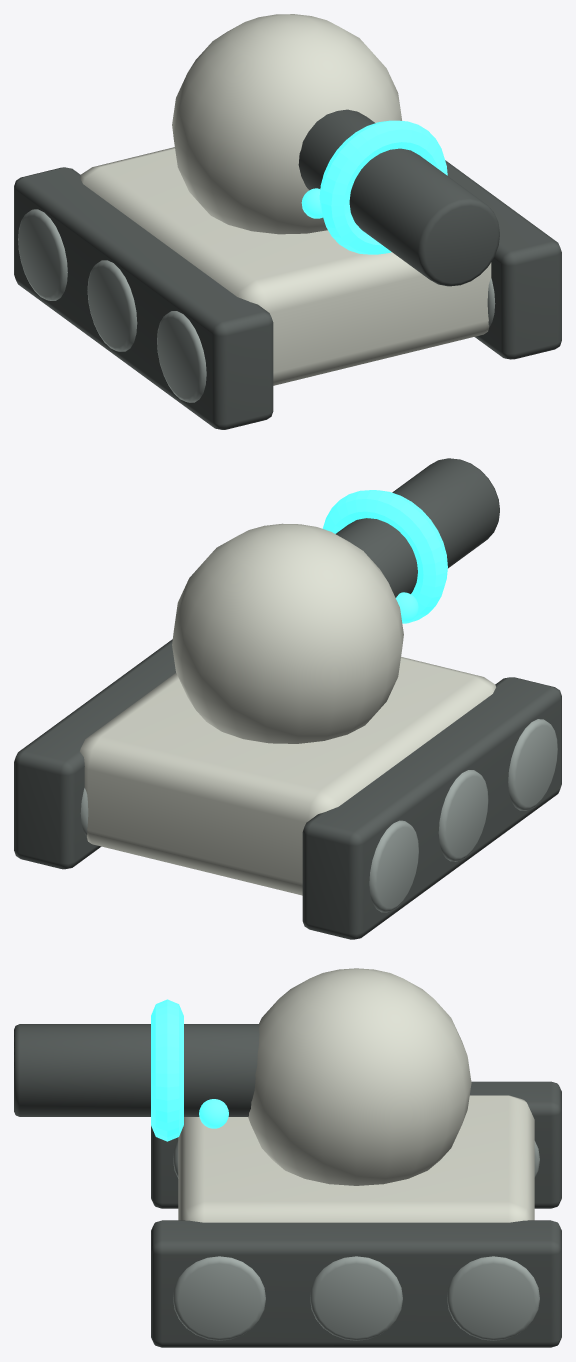
File: card_rail.glb
3 views of the same model, one above another, from view 1: azimuth 30°, elevation 25°; view 2: azimuth 150°, elevation 25°; view 3: azimuth 270°, elevation 25° (orthographic).
Visible parts, largest first — view 1: card_rail; view 2: card_rail; view 3: card_rail.
Part boxes in pixels (x1,y1,x2,y2): card_rail: [14, 14, 561, 429]; card_rail: [14, 458, 561, 939]; card_rail: [14, 968, 561, 1347].
Bounding box in the file's own units: 1.49 × 1.16 × 2.
